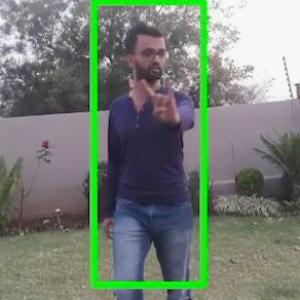takeoff-hand: (144, 70, 183, 125)
